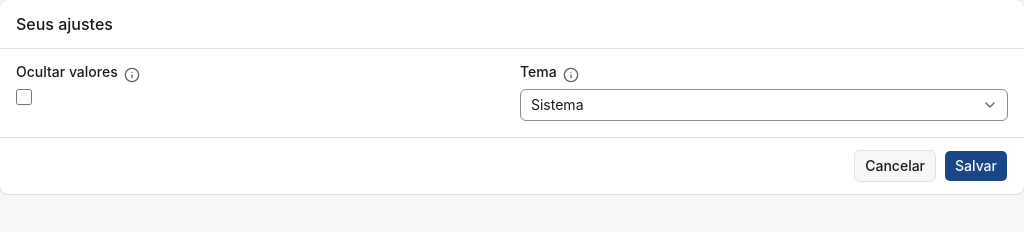
Test case: ParameterFields — the loaded reference (#248 review) › keeps what was typed through a refusal, selects included
Select "Escuro" in the dropdown labelled "Tema" at (764, 105), box x1=520 y1=89 x2=1008 y2=121
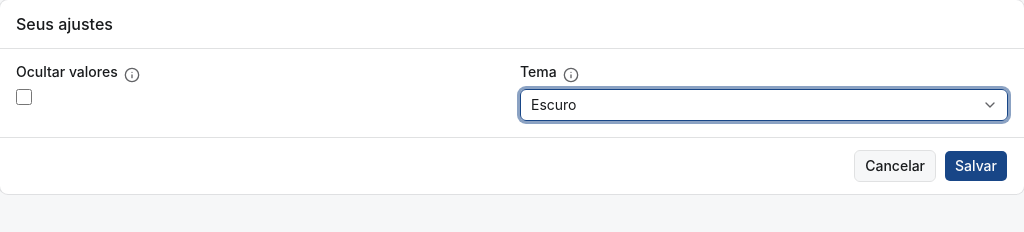
Click the checkbox labelled "Ocultar valores" at (24, 97), box x1=16 y1=89 x2=32 y2=105
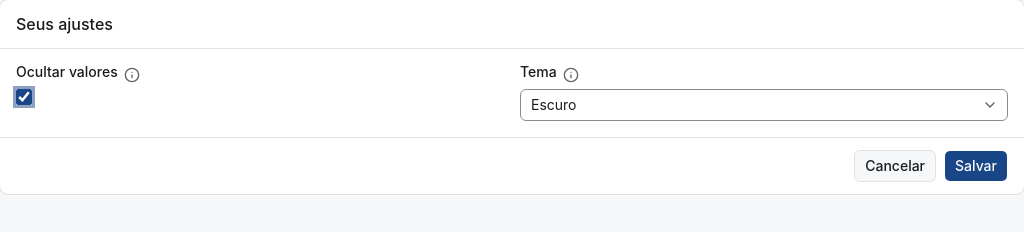
Click the button "Salvar" at (976, 166), box x1=944 y1=150 x2=1008 y2=182
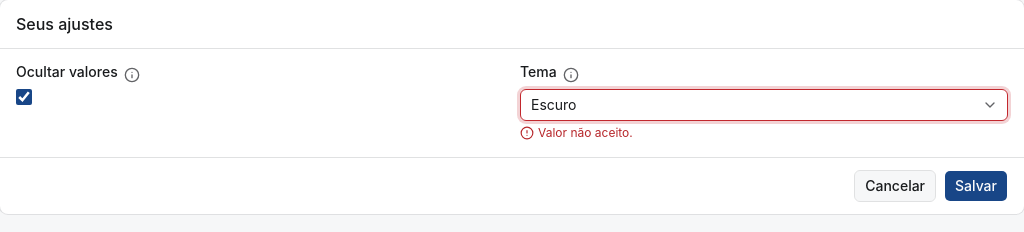
Expected: the dropdown labelled "Tema" shows "Escuro", x1=520 y1=89 x2=1008 y2=121
Expected: the checkbox labelled "Ocultar valores" is checked, x1=16 y1=89 x2=32 y2=105
Note: Cancelar is what goes back to the loaded values.
Click the button "Cancelar" at (895, 186), box x1=854 y1=170 x2=936 y2=202
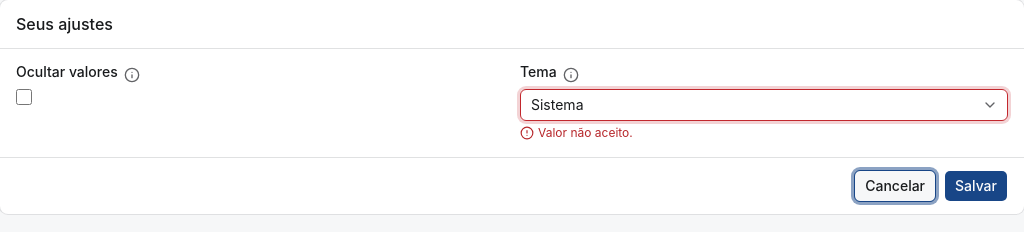
Expected: the dropdown labelled "Tema" shows "Sistema", x1=520 y1=89 x2=1008 y2=121
Expected: the checkbox labelled "Ocultar valores" is not checked, x1=16 y1=89 x2=32 y2=105
